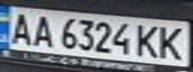2: (90, 18, 115, 55)
3: (75, 17, 96, 52)
4: (112, 19, 136, 56)
6: (54, 16, 78, 51)
A: (3, 10, 36, 46), (27, 12, 57, 48)
K: (154, 24, 190, 61), (133, 21, 163, 60)
